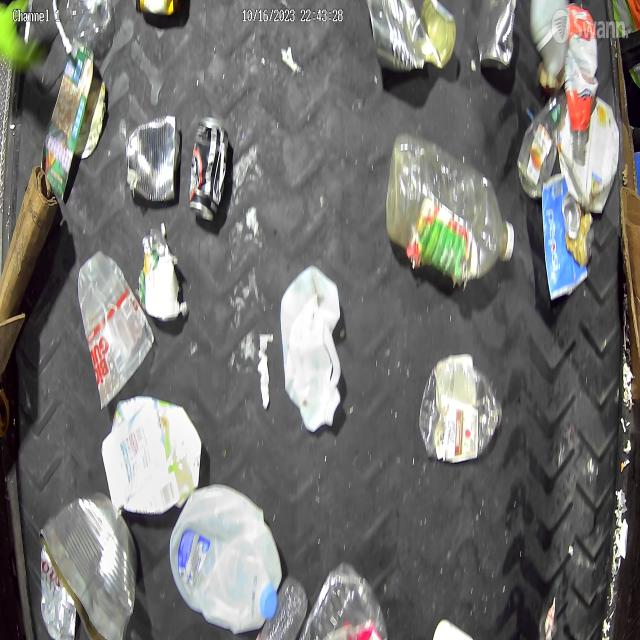can: (41, 491, 141, 637), (366, 1, 456, 72), (126, 117, 181, 206), (188, 115, 230, 221), (480, 0, 518, 74), (562, 195, 595, 268)
milk_jug: (170, 482, 282, 634), (280, 265, 341, 432)
non_white_jug: (101, 395, 202, 517), (558, 94, 620, 214)
plastic_bottle: (385, 136, 516, 284), (418, 352, 502, 462), (297, 561, 390, 640), (517, 94, 565, 199), (251, 576, 310, 640)
